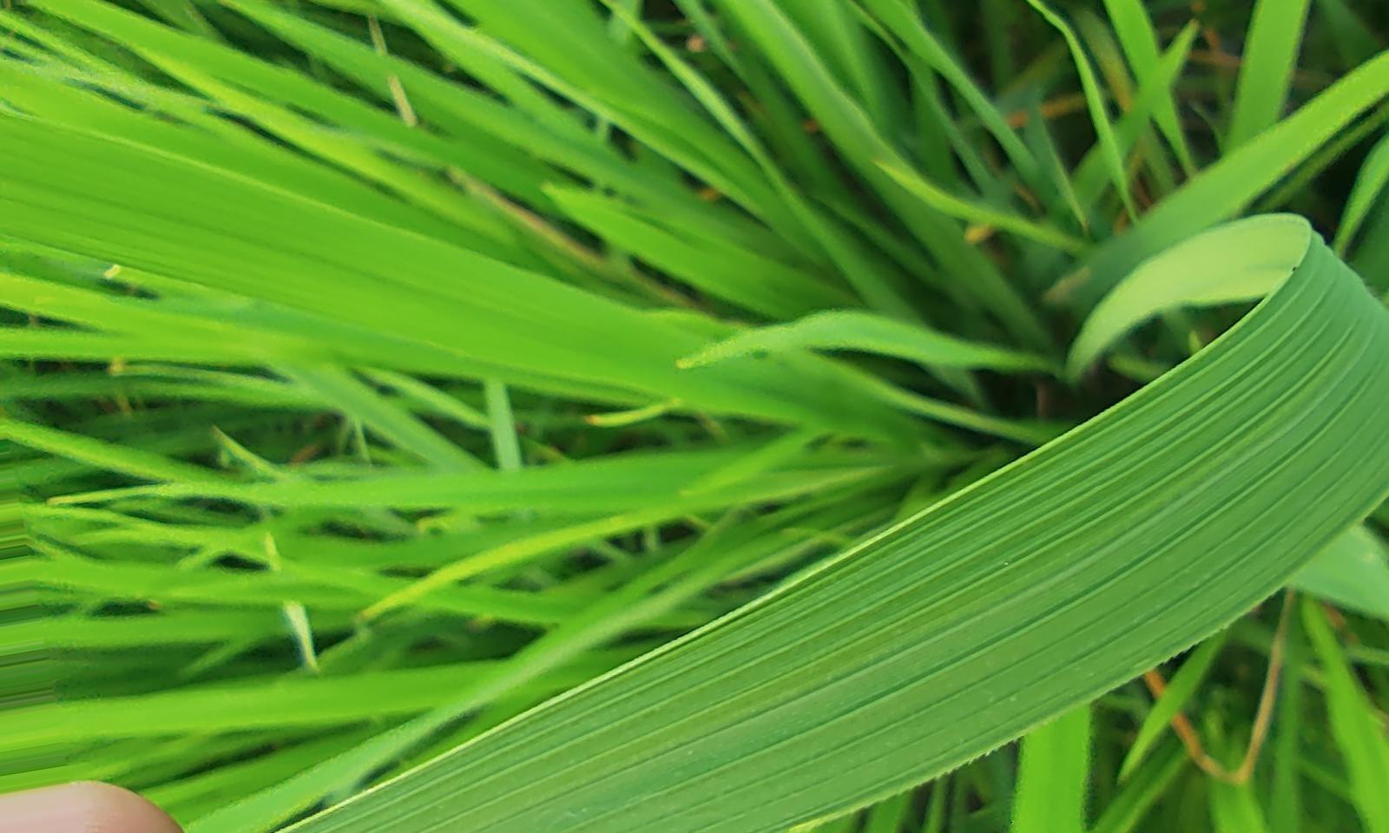Healthy: (286, 219, 1388, 832)
